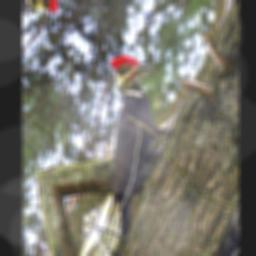Woodpecker: (49, 35, 197, 252)
